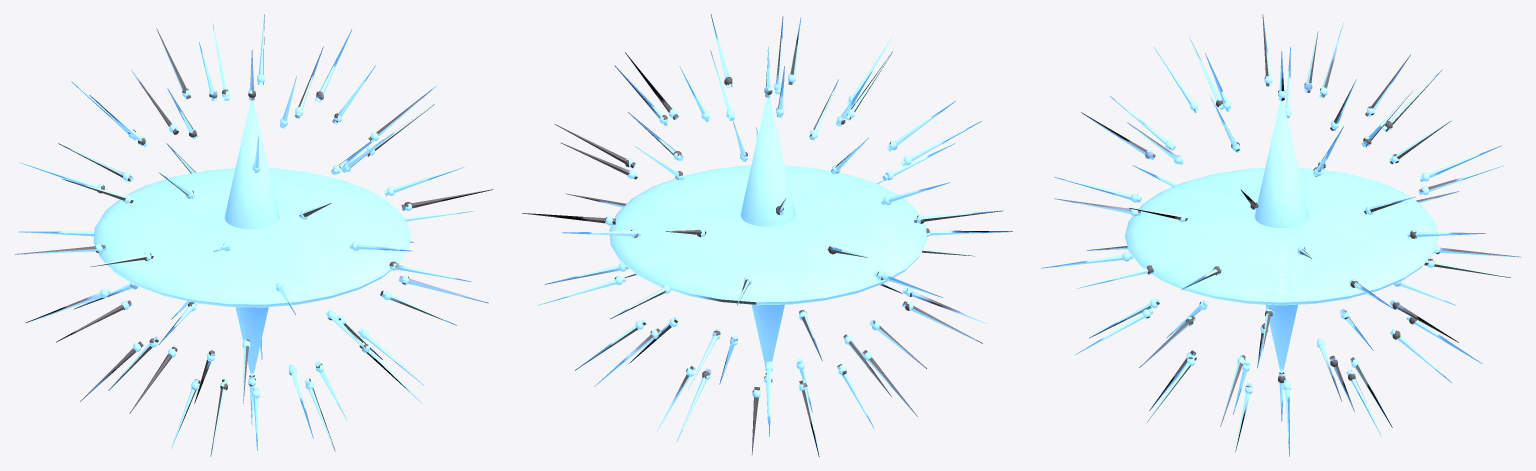
The model's file is sperosoma_giganteum.glb.
3 renders of one model, left to right at view 1: azimuth 30°, elevation 25°; view 2: azimuth 150°, elevation 25°; view 3: azimuth 270°, elevation 25°, orthographic.
Visible parts, largest first — view 1: sperosoma_giganteum; view 2: sperosoma_giganteum; view 3: sperosoma_giganteum.
Part boxes in pixels (x1,y1,x2,y2): sperosoma_giganteum: (14,14,493,456); sperosoma_giganteum: (522,14,1012,456); sperosoma_giganteum: (1041,14,1521,456).
Size of the model in its own units: 0.6089 by 0.5286 by 0.6119.
Materials: 1 (1 with a texture image).
